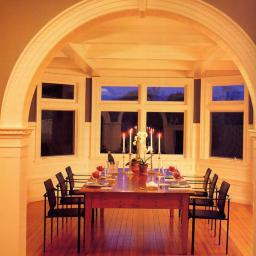Ventana: (97, 80, 186, 154), (36, 74, 84, 161), (206, 82, 244, 163)
